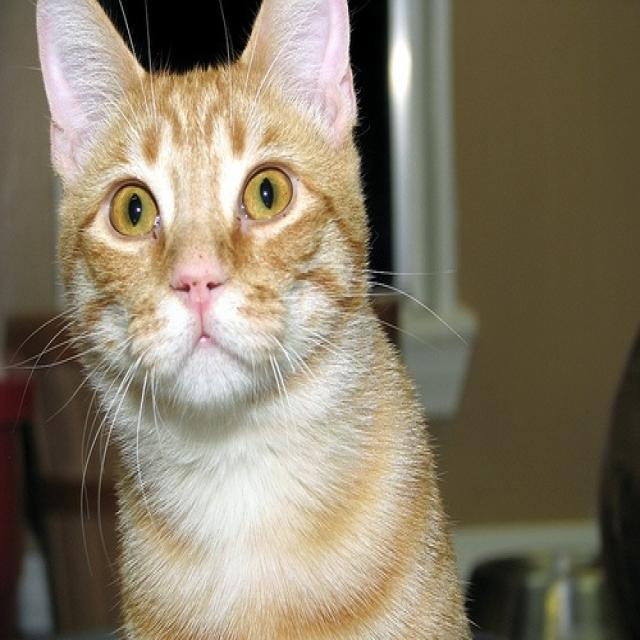cat: (37, 0, 468, 637)
